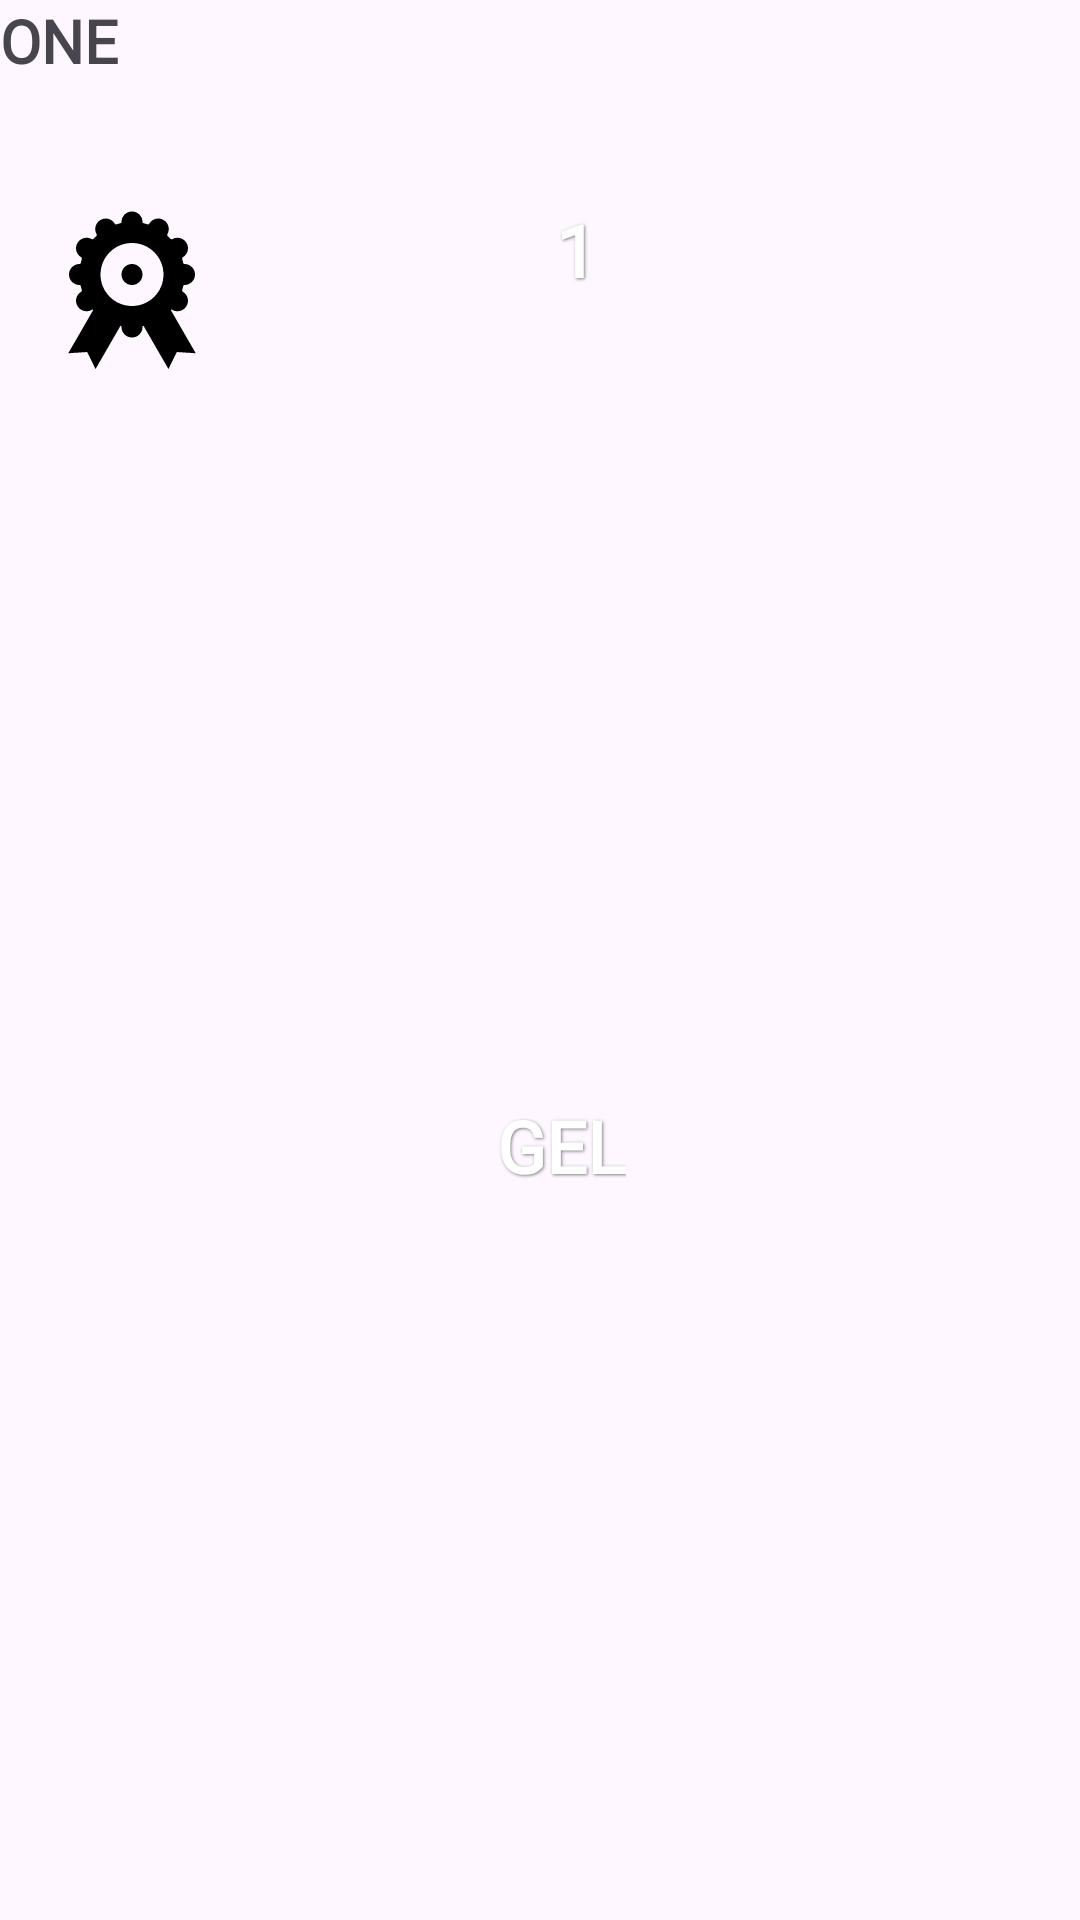

Icons on this 1080×1920 Android screen, each with the point to tap as (x,y):
license: (132,290)
